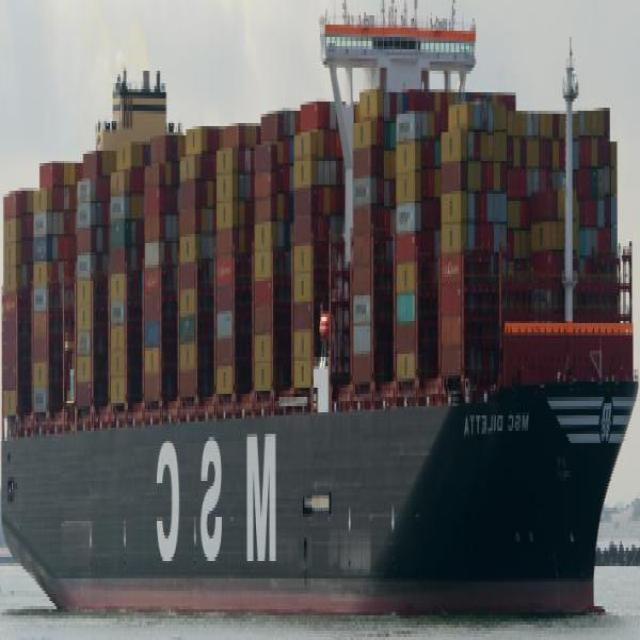Container Ship: (3, 6, 637, 621)
